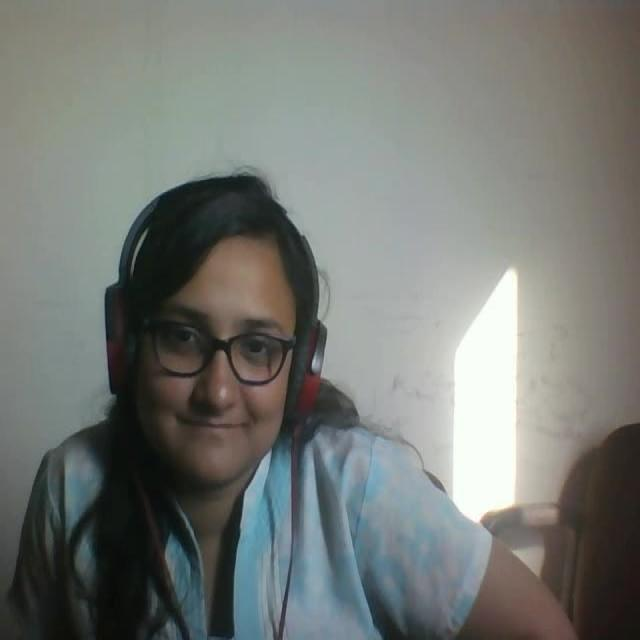Engaged: (89, 154, 351, 534)
